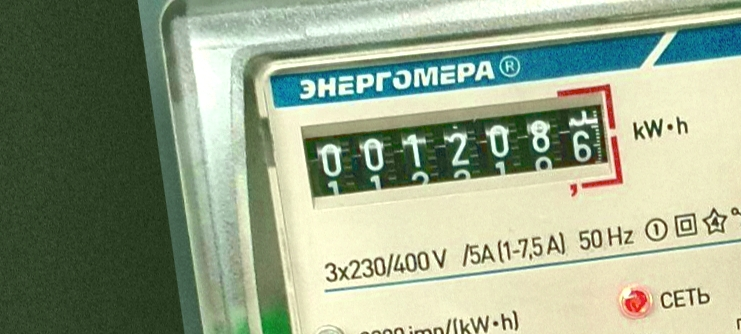0: (313, 138, 344, 180), (357, 134, 386, 174), (481, 120, 510, 159)
1: (398, 129, 425, 171)
2: (441, 128, 472, 169)
6: (565, 126, 592, 165)
8: (522, 115, 552, 156)
screen: (290, 74, 631, 233)
